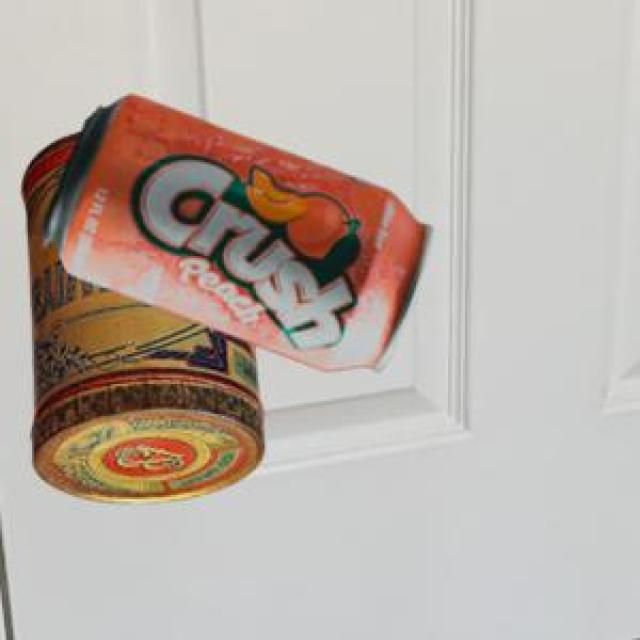logam: (39, 93, 430, 368), (20, 129, 261, 500)
